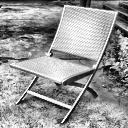chair_success: (6, 0, 123, 124)
